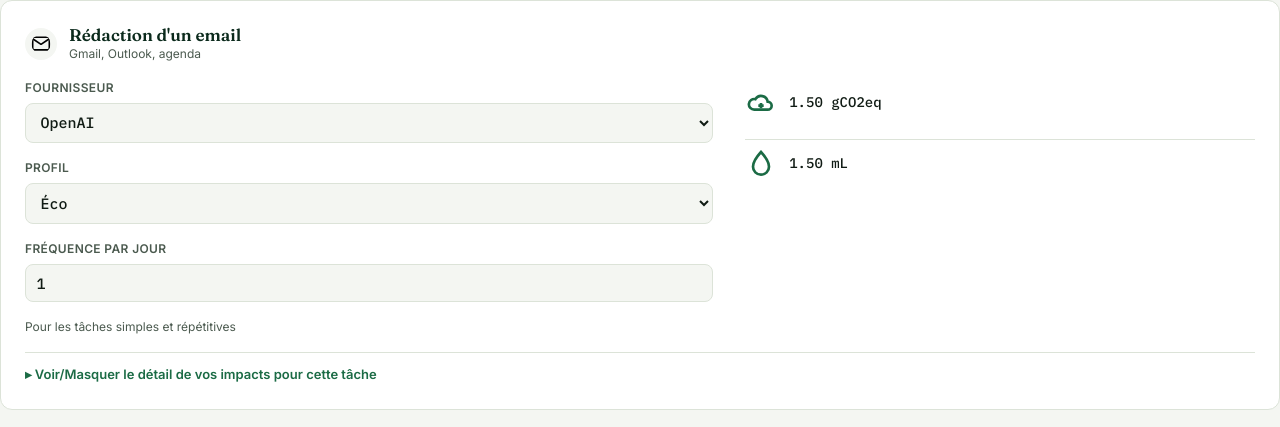
it: UseCaseCard › updates the visible summary when the profile changes
The image size is (1280, 427).
Select "Puissant" in the dropdown labelled "Profil" at (369, 203), box [25,183,713,224]
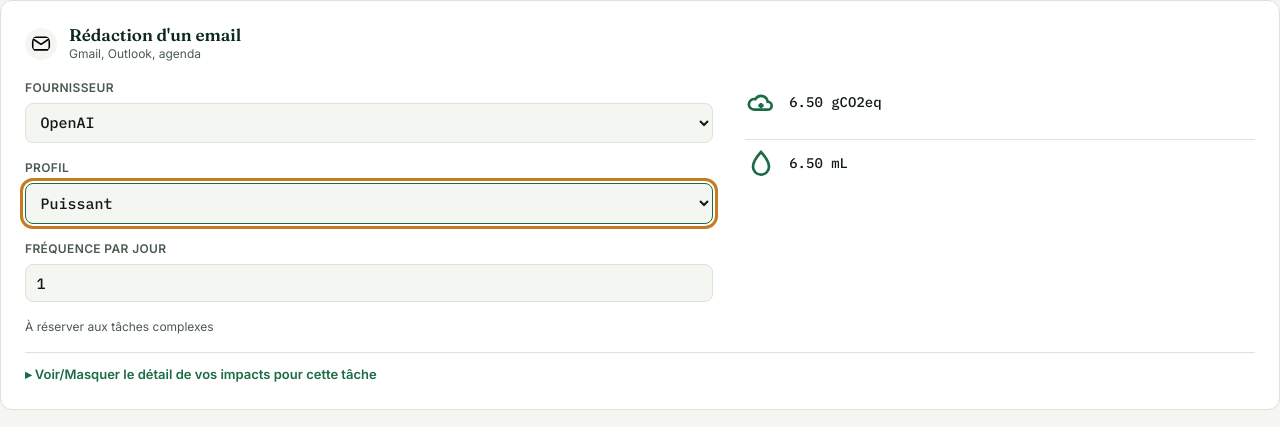
Expected: the element titled "gaz à effet de serre" is shown, [745,86,882,118]
Expected: the element titled "gaz à effet de serre" reads "6.50 gCO2eq", [789,93,882,111]
Expected: the element titled "eau" reads "6.50 mL", [789,154,848,172]
